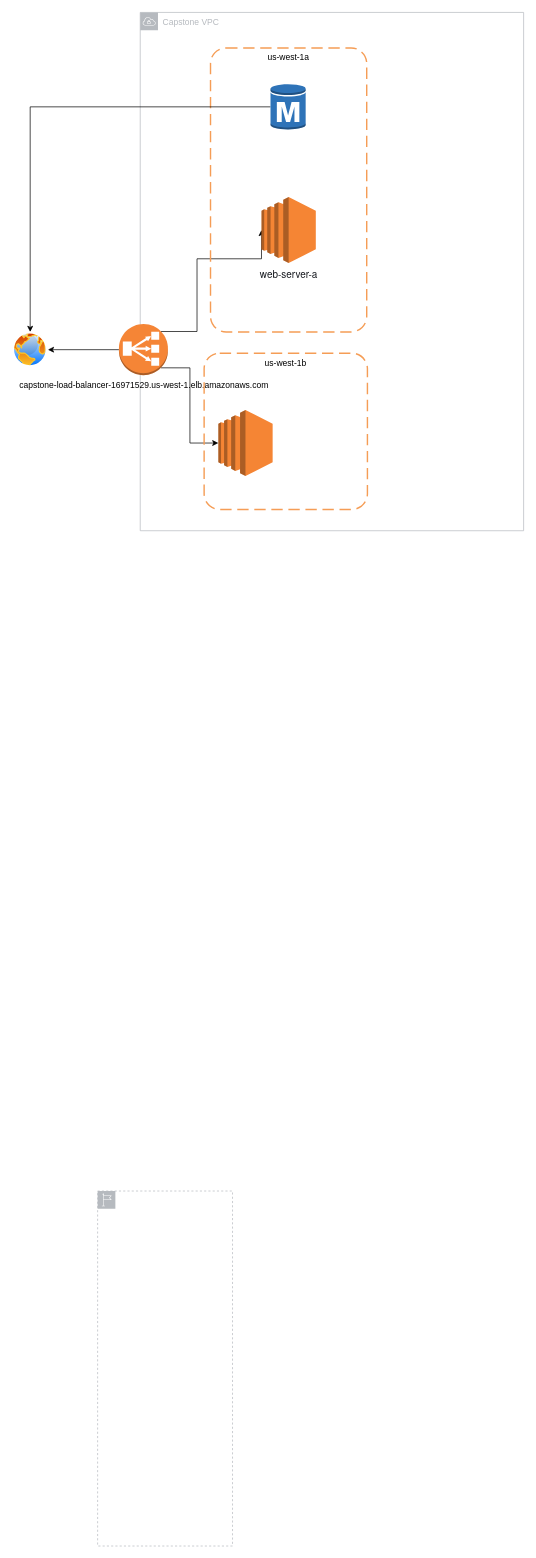
Image size: 536x1558. Some labels were removed from this diagram. Here are the shapes that lost their labels. From the top down, the centre of each, then its label:
At (x=288, y=106): "sre-bootcamp".
At (x=245, y=442): "web-server-b".
At (x=165, y=1368): "Region".
